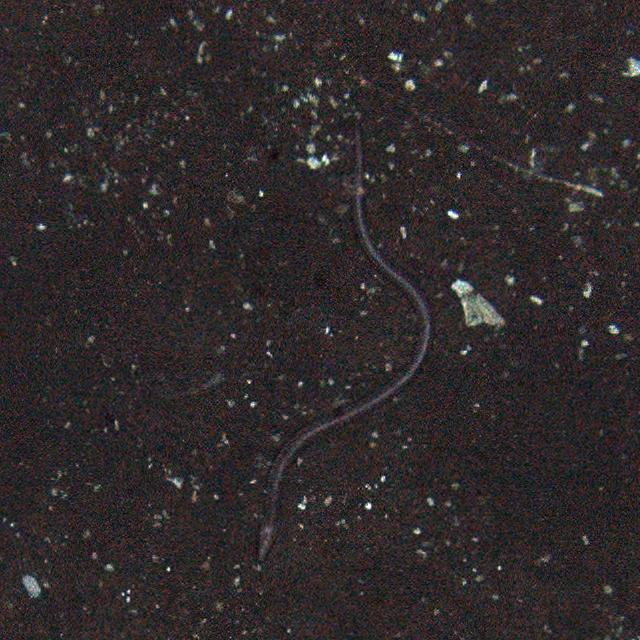eel: (255, 112, 436, 560)
